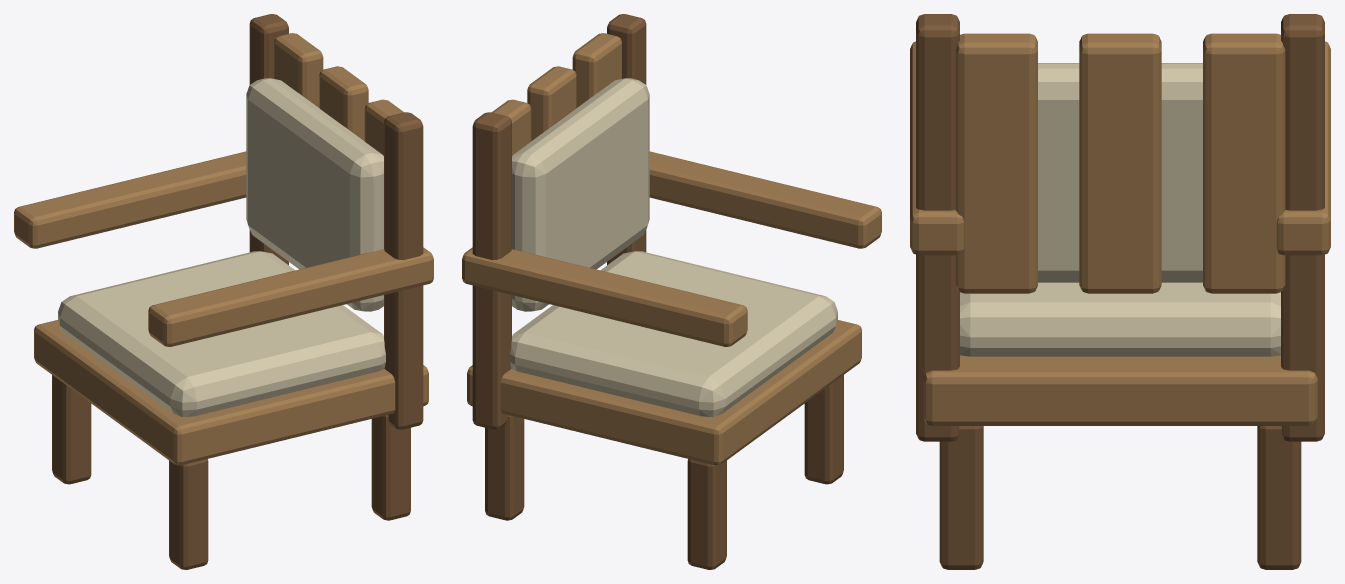
The model's file is SM_IntellectualGrandpaHouse_ChairRight.fbx.
The picture shows the model from 3 angles, left to right: view 1: azimuth 30°, elevation 25°; view 2: azimuth 150°, elevation 25°; view 3: azimuth 270°, elevation 25°; orthographic projection. The views are drawn at different scales.
Visible parts, largest first — view 1: SM_IntellectualGrandpaHouse_ChairRight; view 2: SM_IntellectualGrandpaHouse_ChairRight; view 3: SM_IntellectualGrandpaHouse_ChairRight.
Part boxes in pixels (x1=…): SM_IntellectualGrandpaHouse_ChairRight: x1=14, y1=14, x2=433, y2=569; SM_IntellectualGrandpaHouse_ChairRight: x1=462, y1=14, x2=881, y2=569; SM_IntellectualGrandpaHouse_ChairRight: x1=910, y1=14, x2=1330, y2=569.
Size of what is drawn, in the model's own units: 72 by 71.5 by 103.
